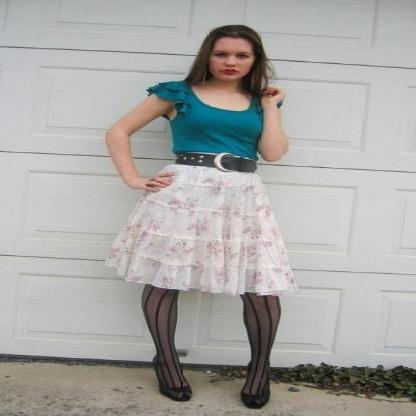shirt: (146, 78, 278, 158)
shoe: (163, 383, 270, 407)
skirt: (119, 164, 286, 295)
